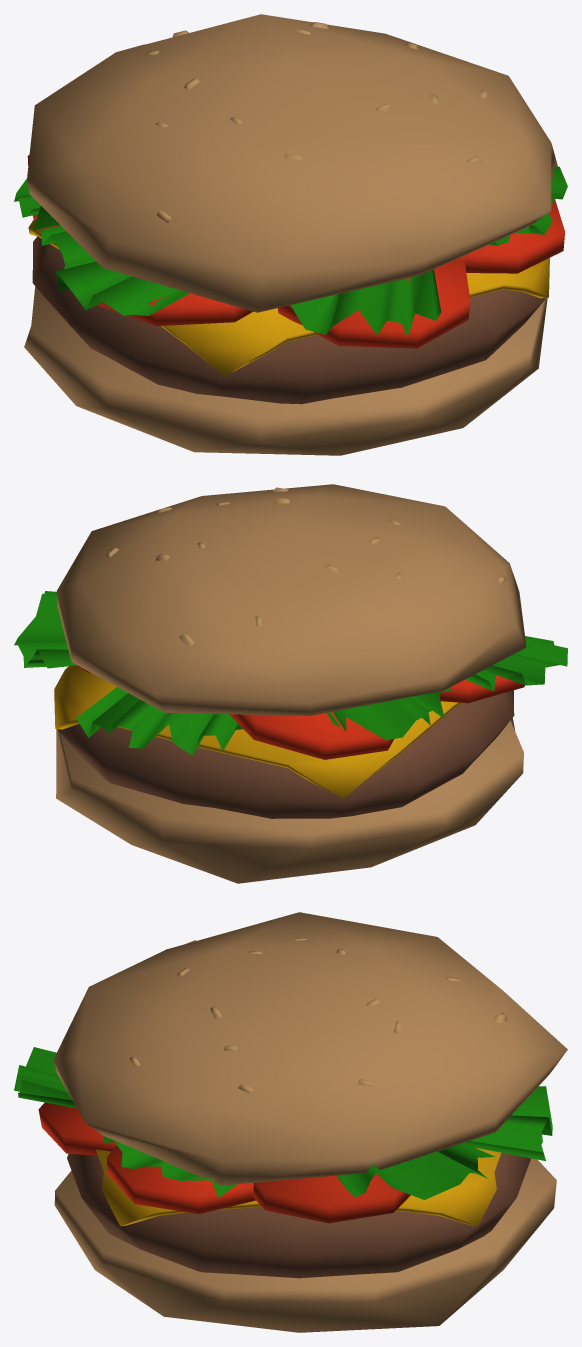
Rendered from Hamburger.fbx.
The picture shows the model from 3 angles, top to bottom: view 1: azimuth 30°, elevation 25°; view 2: azimuth 150°, elevation 25°; view 3: azimuth 270°, elevation 25°; orthographic projection. The views are drawn at different scales.
Parts seen in each view (by area): view 1: Burger; view 2: Burger; view 3: Burger.
Part boxes in pixels (box(x1,y1,x2,y2)): Burger: box(14, 14, 567, 455); Burger: box(14, 484, 567, 883); Burger: box(14, 912, 567, 1332).
Bounding box in the file's own units: 1.9 × 1.23 × 1.96.
